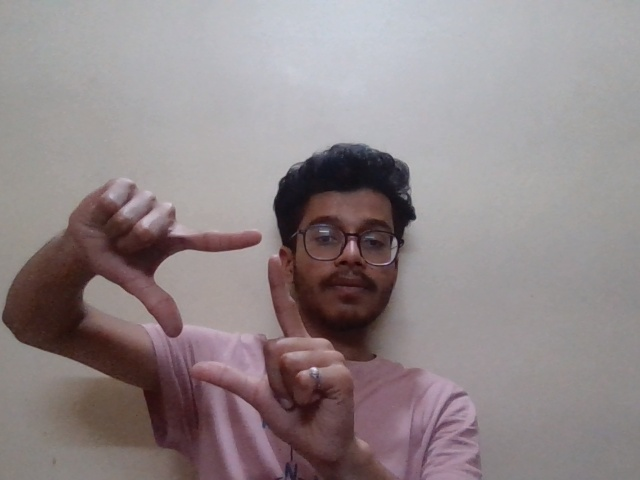video: (67, 171, 368, 454)
